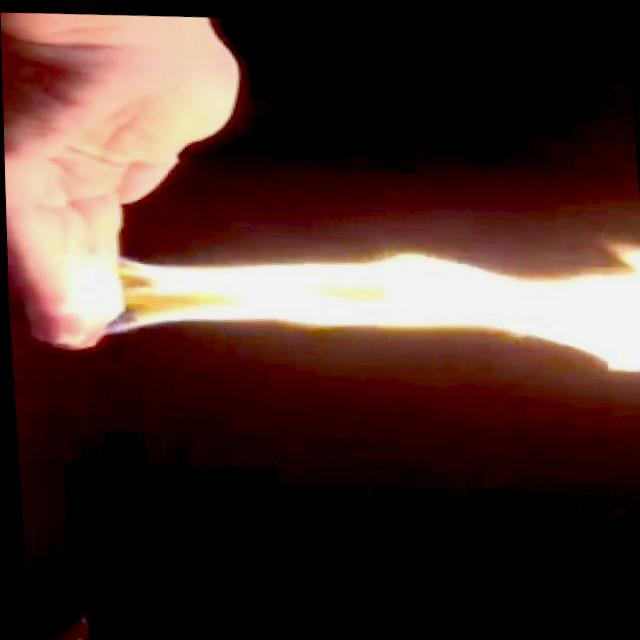Fire: (52, 201, 640, 387)
